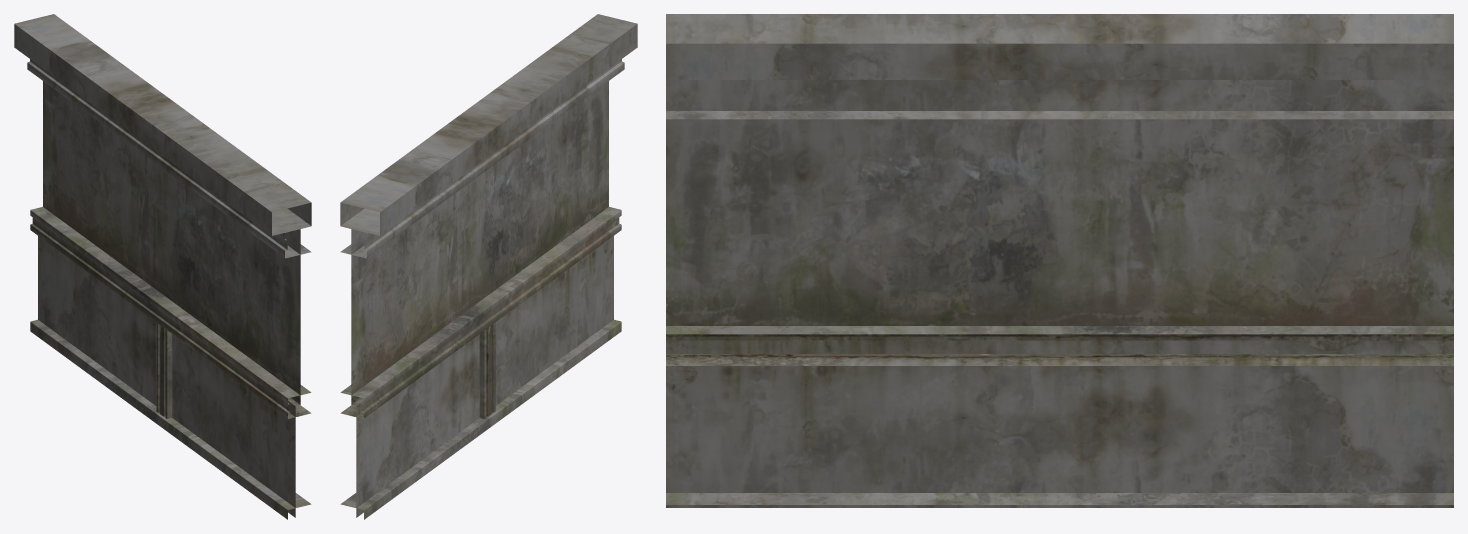
The model's file is Psychiatric_Ward_Guards_Room_Exterior_Wall_4m.glb.
3 views of the same model, side by side, from view 1: azimuth 30°, elevation 25°; view 2: azimuth 150°, elevation 25°; view 3: azimuth 270°, elevation 25° (orthographic). The views are drawn at different scales.
Parts seen in each view (by area): view 1: Psychiatric_Ward_Guards_Room_Exterior_Wall_4m; view 2: Psychiatric_Ward_Guards_Room_Exterior_Wall_4m; view 3: Psychiatric_Ward_Guards_Room_Exterior_Wall_4m.
Boxes of the visible parts, box(x1,y1,x2,y2) form: Psychiatric_Ward_Guards_Room_Exterior_Wall_4m: box(14, 14, 311, 519); Psychiatric_Ward_Guards_Room_Exterior_Wall_4m: box(340, 14, 637, 519); Psychiatric_Ward_Guards_Room_Exterior_Wall_4m: box(666, 14, 1453, 507).
Bounding box in the file's own units: 0.3569 × 2.67 × 4.
2 materials, 2 textured.
